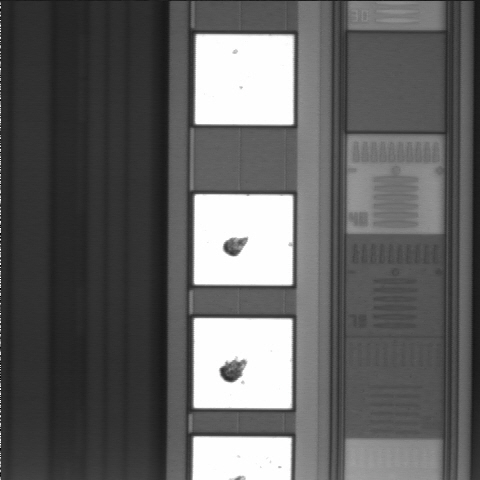pad: (195, 34, 294, 125), (194, 194, 293, 285), (194, 318, 292, 408)
